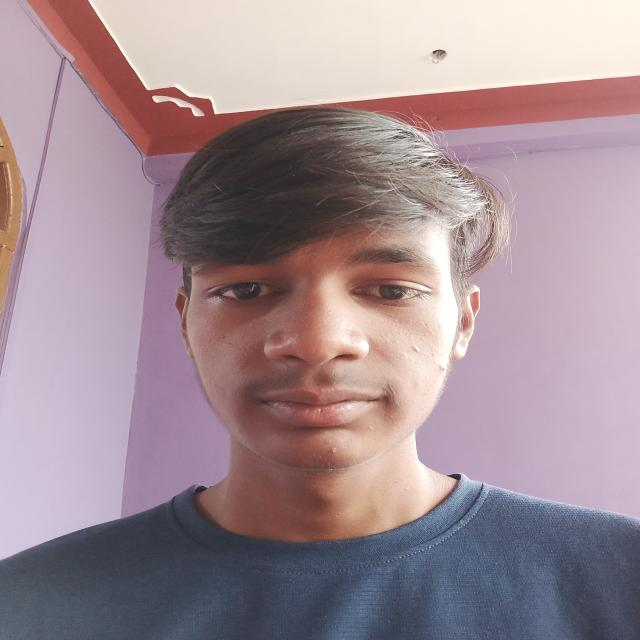Acne: (408, 328, 435, 342), (208, 332, 230, 345), (324, 304, 341, 317), (308, 250, 326, 262), (363, 419, 379, 431), (406, 344, 424, 354), (433, 362, 448, 372), (325, 448, 339, 457)
